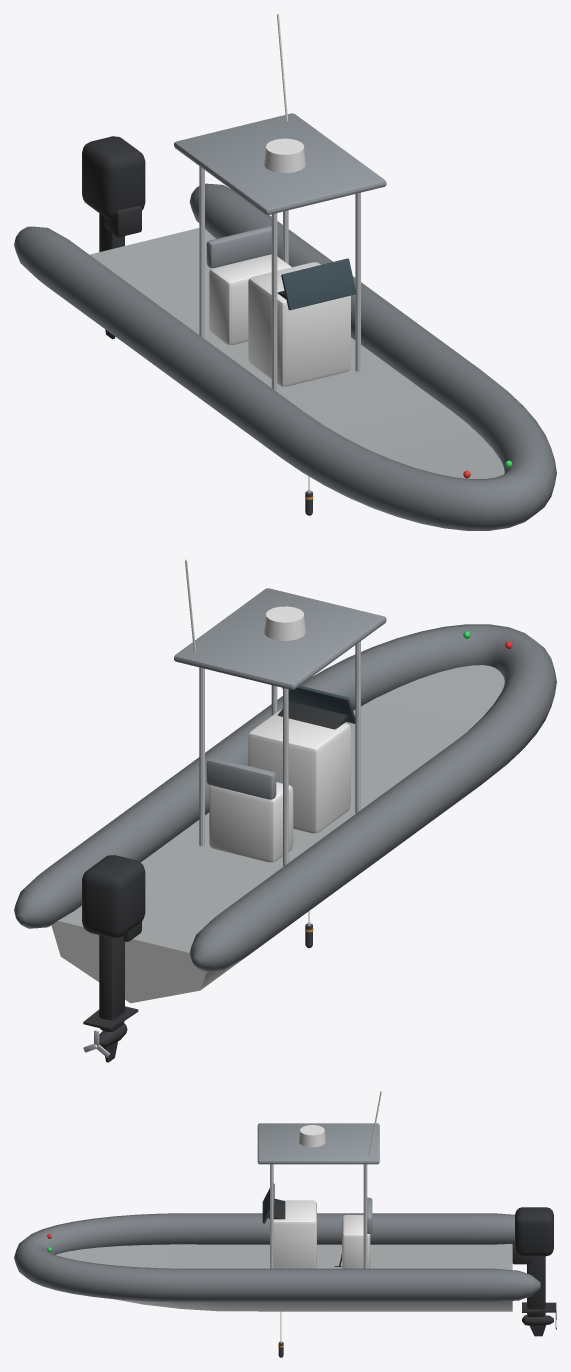
The model's file is props.glb.
3 renders of one model, top to bottom at view 1: azimuth 30°, elevation 25°; view 2: azimuth 150°, elevation 25°; view 3: azimuth 270°, elevation 25°, orthographic. The views are drawn at different scales.
Parts seen in each view (by area): view 1: Boat; view 2: Boat; view 3: Boat.
Part boxes in pixels (x1,y1,x2,y2): Boat: [14, 14, 556, 530]; Boat: [14, 559, 556, 1062]; Boat: [14, 1091, 556, 1336].
Size of the model in its own units: 2.64 by 4.95 by 8.68.
